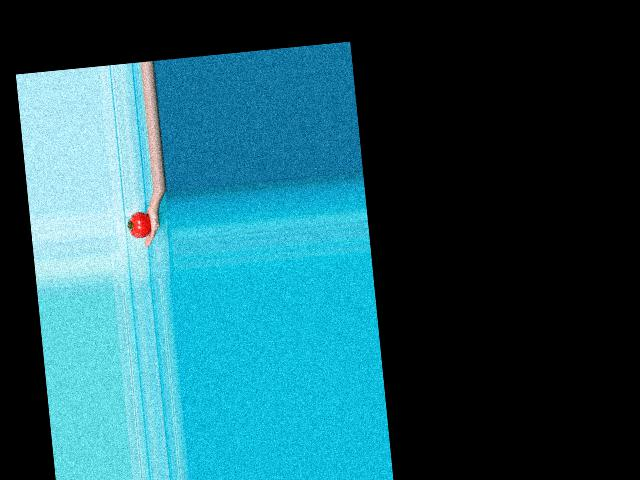tomato: (127, 211, 152, 239)
